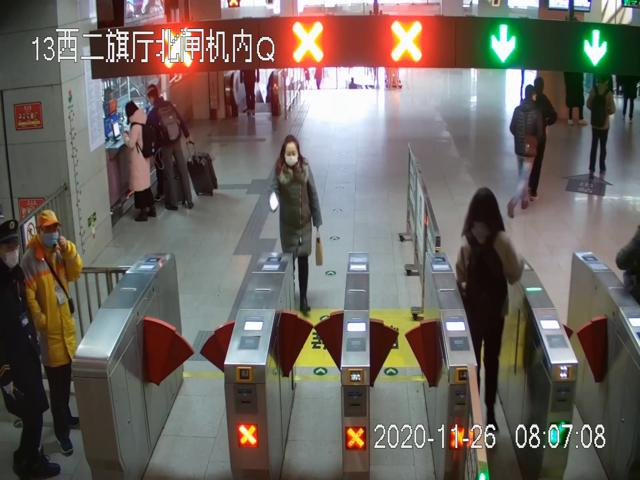person: (456, 186, 522, 437), (22, 209, 82, 455), (271, 133, 323, 316), (147, 92, 194, 212), (120, 101, 159, 221)
